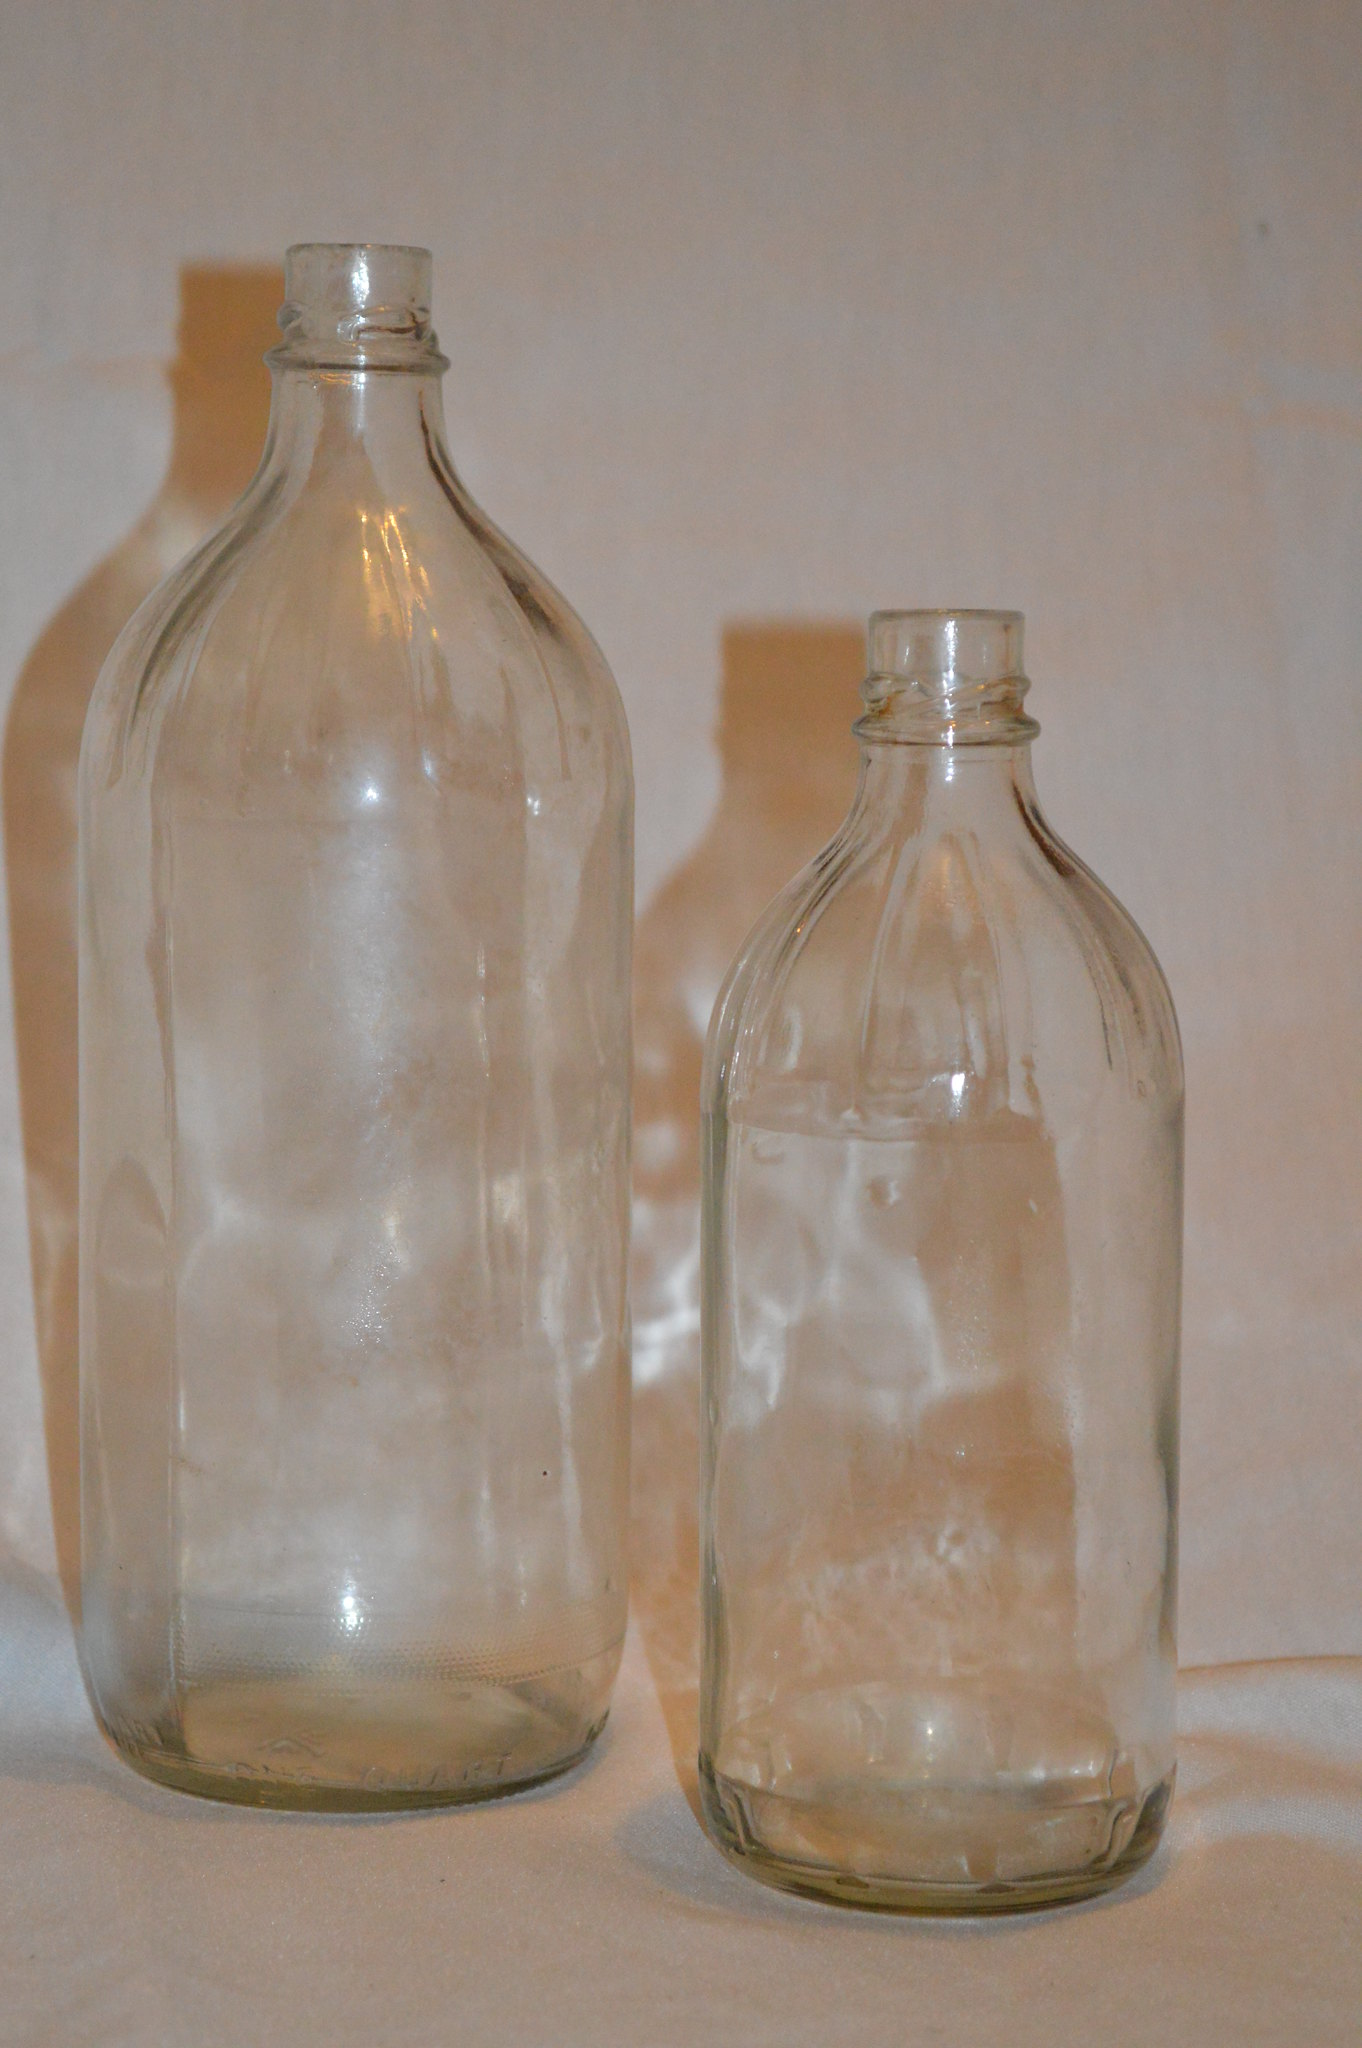bottle: (61, 239, 645, 1802), (693, 609, 1184, 1914)
